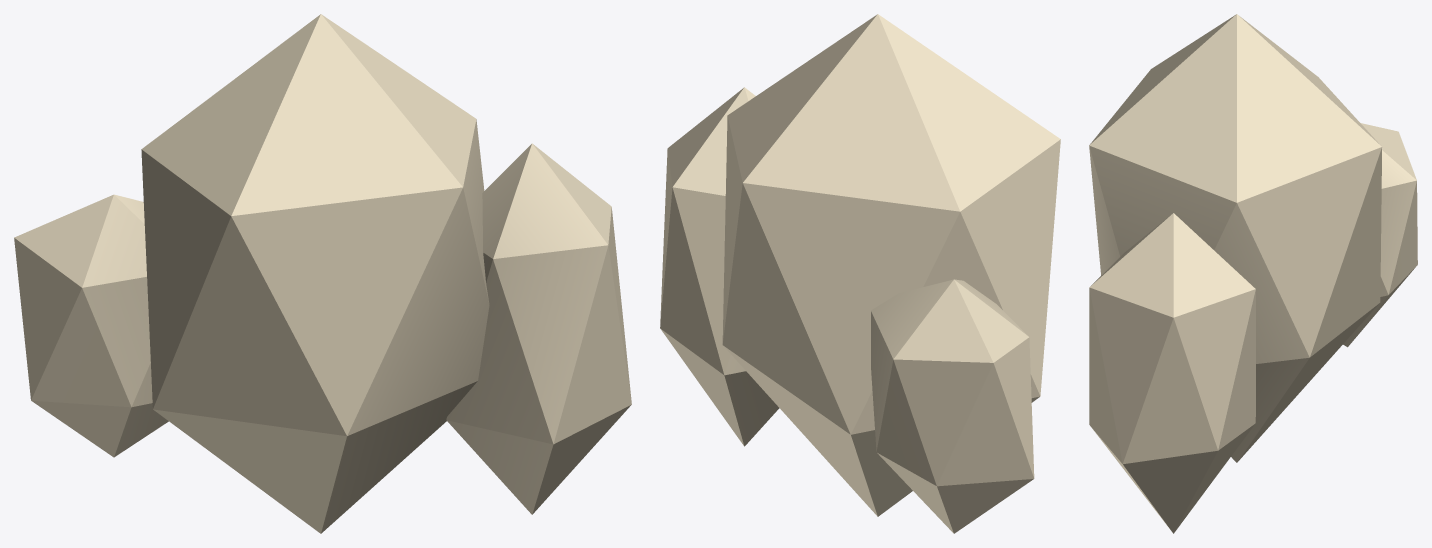
Rendered from nugget.glb.
The picture shows the model from 3 angles, left to right: view 1: azimuth 30°, elevation 25°; view 2: azimuth 150°, elevation 25°; view 3: azimuth 270°, elevation 25°; orthographic projection. The views are drawn at different scales.
Parts seen in each view (by area): view 1: Nugget; view 2: Nugget; view 3: Nugget.
Part boxes in pixels (x1=…): Nugget: x1=14, y1=14, x2=631, y2=533; Nugget: x1=660, y1=14, x2=1060, y2=533; Nugget: x1=1089, y1=14, x2=1417, y2=533.
Bounding box in the file's own units: 0.1512 × 0.1565 × 0.1039.
